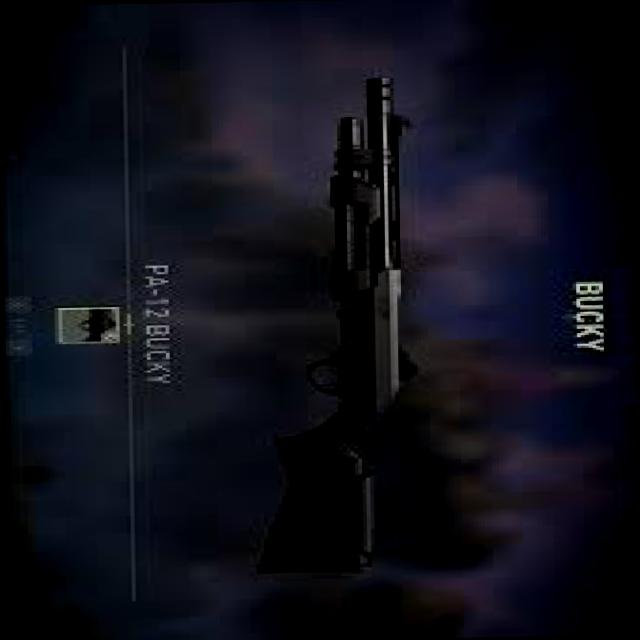long weapon: (201, 62, 459, 584)
